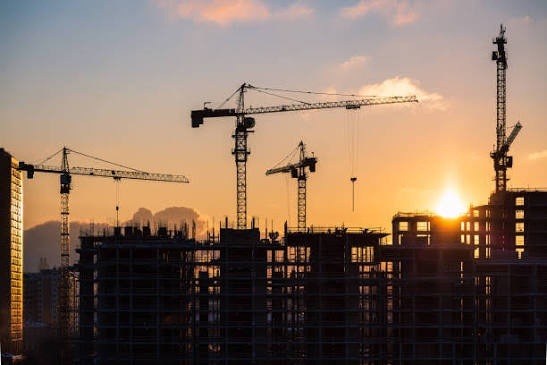crane: (184, 67, 425, 280), (18, 139, 190, 337), (456, 18, 539, 236), (262, 135, 342, 246)
